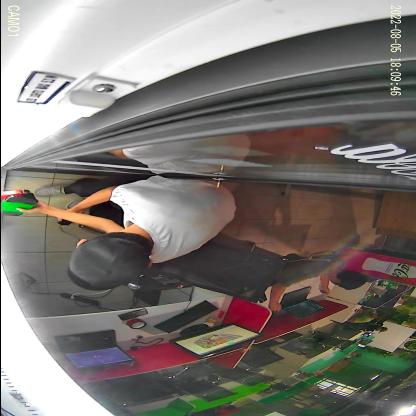green: (0, 195, 37, 216)
red: (0, 189, 38, 203)
